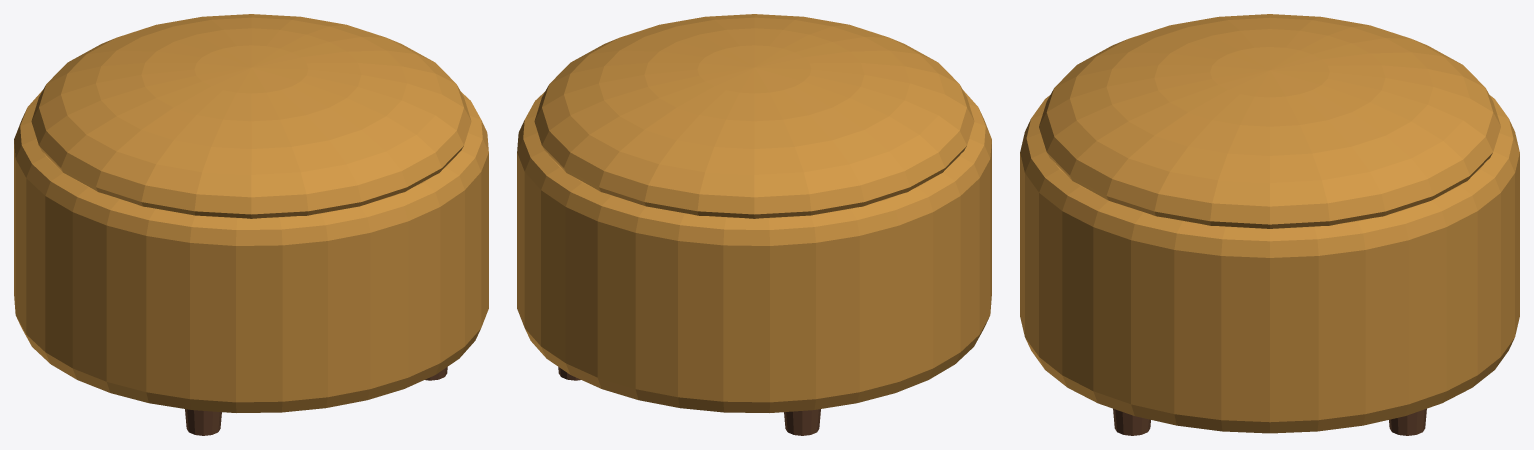
Rendered from ottoman-v1.glb.
3 renders of one model, left to right at view 1: azimuth 30°, elevation 25°; view 2: azimuth 150°, elevation 25°; view 3: azimuth 270°, elevation 25°, orthographic. The views are drawn at different scales.
Visible parts, largest first — view 1: upholstered-body, domed-cushion, low-foot; view 2: upholstered-body, domed-cushion, low-foot.001; view 3: upholstered-body, domed-cushion, low-foot.002, low-foot.003.
Part boxes in pixels (x1,y1,x2,y2): upholstered-body: (14, 90, 488, 412); domed-cushion: (31, 14, 471, 218); low-foot: (185, 409, 221, 435); upholstered-body: (517, 90, 991, 412); domed-cushion: (534, 14, 974, 218); low-foot.001: (784, 409, 820, 435); upholstered-body: (1020, 95, 1519, 433); domed-cushion: (1039, 14, 1500, 228); low-foot.002: (1113, 408, 1150, 435); low-foot.003: (1389, 408, 1426, 435).
Bounding box in the file's own units: 0.8 × 0.53 × 0.8.
